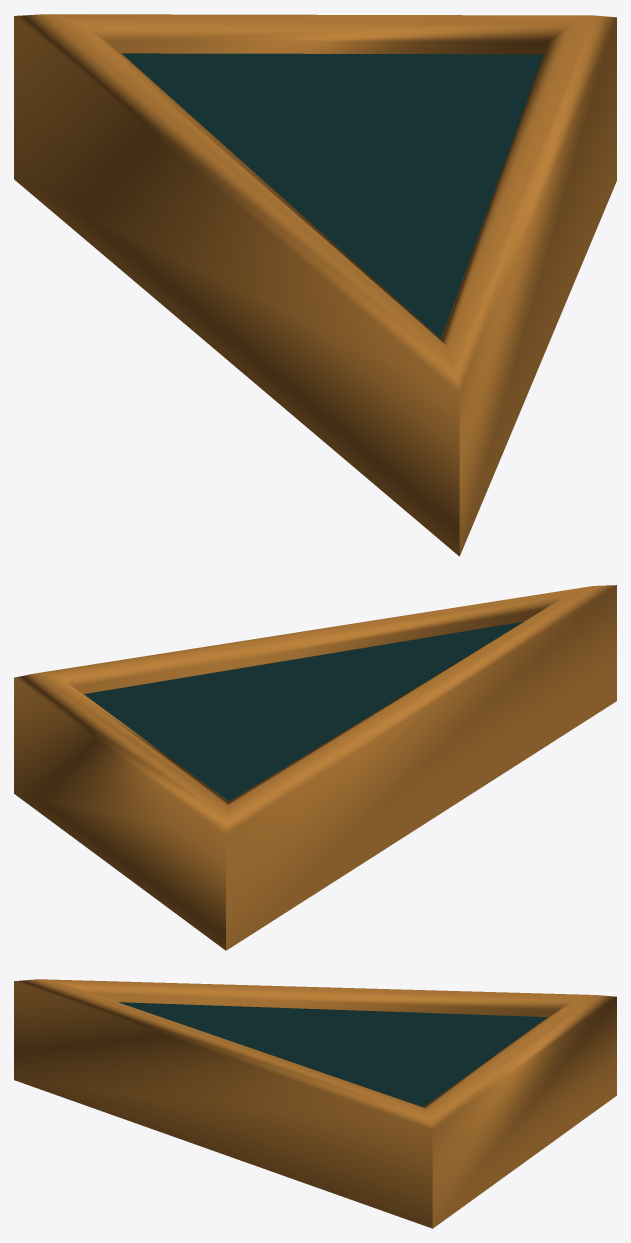
File: jukebox-plastics.dae
3 views of the same model, one above another, from view 1: azimuth 30°, elevation 25°; view 2: azimuth 150°, elevation 25°; view 3: azimuth 270°, elevation 25° (orthographic). The views are drawn at different scales.
Parts seen in each view (by area): view 1: accent, block_art; view 2: accent, block_art; view 3: accent, block_art.
Boxes of the visible parts, left/top/right/bottom form: accent: left=14, top=14, right=616, bottom=556; block_art: left=122, top=53, right=543, bottom=338; accent: left=14, top=585, right=616, bottom=950; block_art: left=84, top=621, right=524, bottom=801; accent: left=14, top=979, right=616, bottom=1228; block_art: left=118, top=1002, right=547, bottom=1106.
Size of the model in its own units: 0.0838 by 0.0276 by 0.1437.
